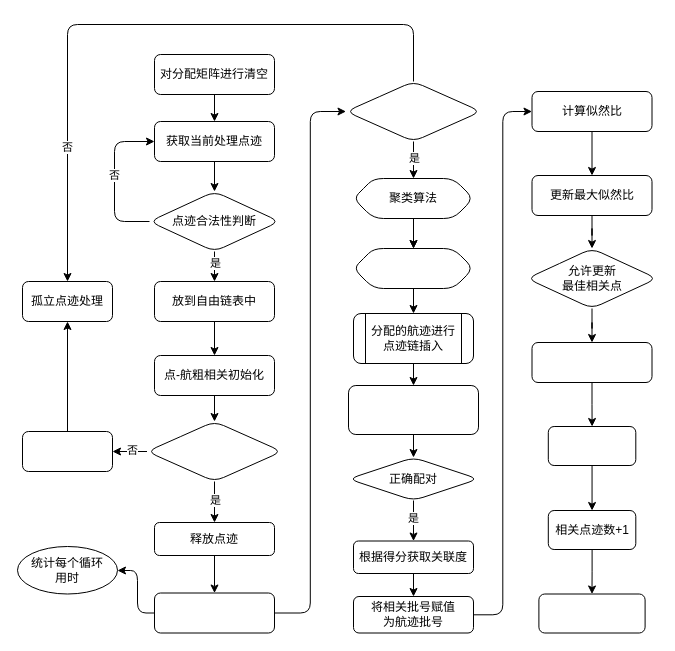
The diagram is 675 pixels wide and 651 high, and some of its shapes have lost their labels. The centre of each missing label's shape, as x and y in pixels:
"关联点迹计数+1" belongs at point (214, 612).
"加入孤立点迹" belongs at point (67, 451).
"更新最优相关点迹链" belongs at point (591, 362).
"最优分配算法" belongs at point (413, 268).
"有点迹处理" belongs at point (413, 111).
"查找分配好的相关点迹 并取出得分" belongs at point (413, 409).
"点迹可以过滤" belongs at point (214, 451).
"调整航迹相关进程" belongs at point (591, 613).
"闭环点数+1" belongs at point (591, 446).
